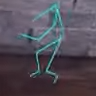hacks_2: (20, 3, 63, 84)
